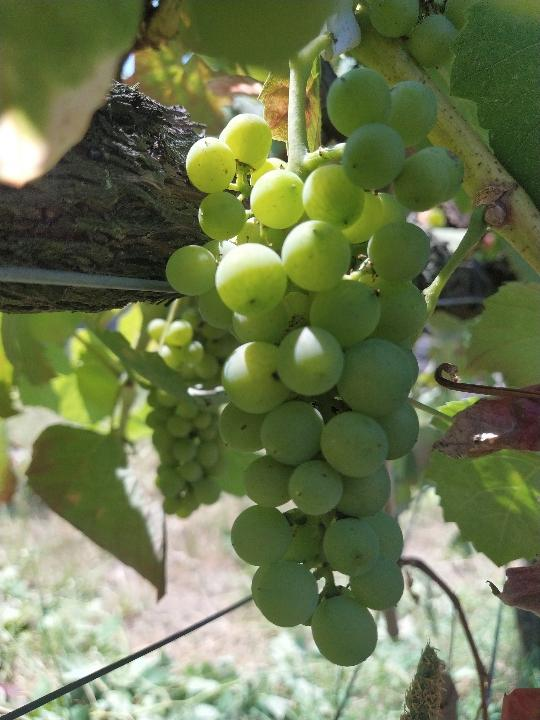grape: (164, 67, 469, 669)
